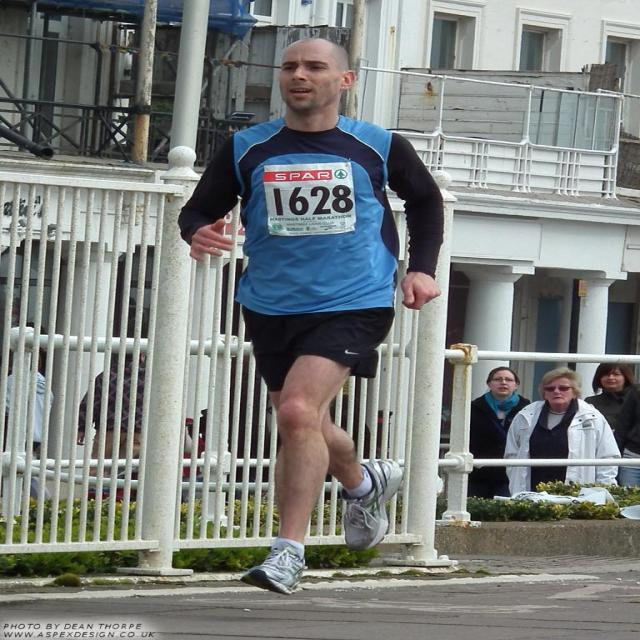Bib: (266, 186, 356, 218)
